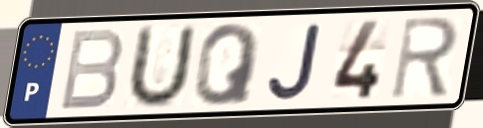4: (329, 17, 384, 102)
B: (55, 26, 126, 113)
J: (265, 20, 327, 103)
Q: (191, 21, 264, 109)
R: (388, 14, 461, 102)
U: (122, 22, 199, 113)
